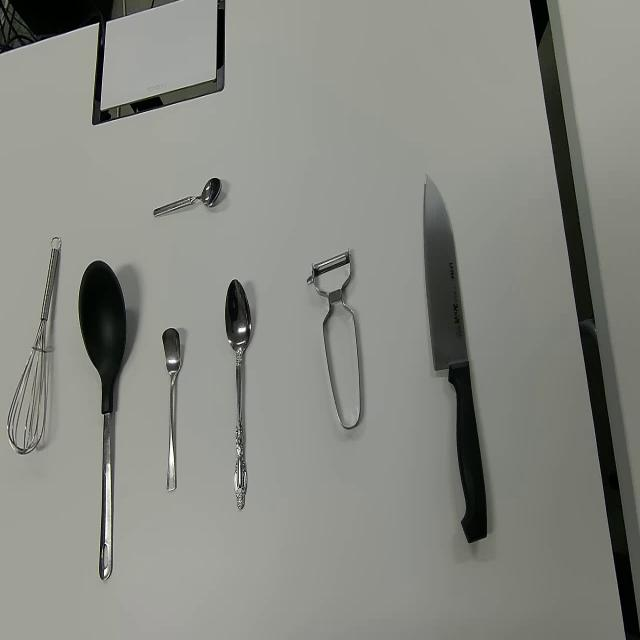Desert-Spoon: (224, 278, 252, 510)
Kitchen-Knife: (423, 173, 488, 545)
Peeler: (306, 246, 362, 430)
Serving-Spoon: (77, 258, 128, 582)
Tea-Spoon: (161, 326, 182, 492), (152, 176, 222, 219)
Whisk: (7, 234, 62, 455)
